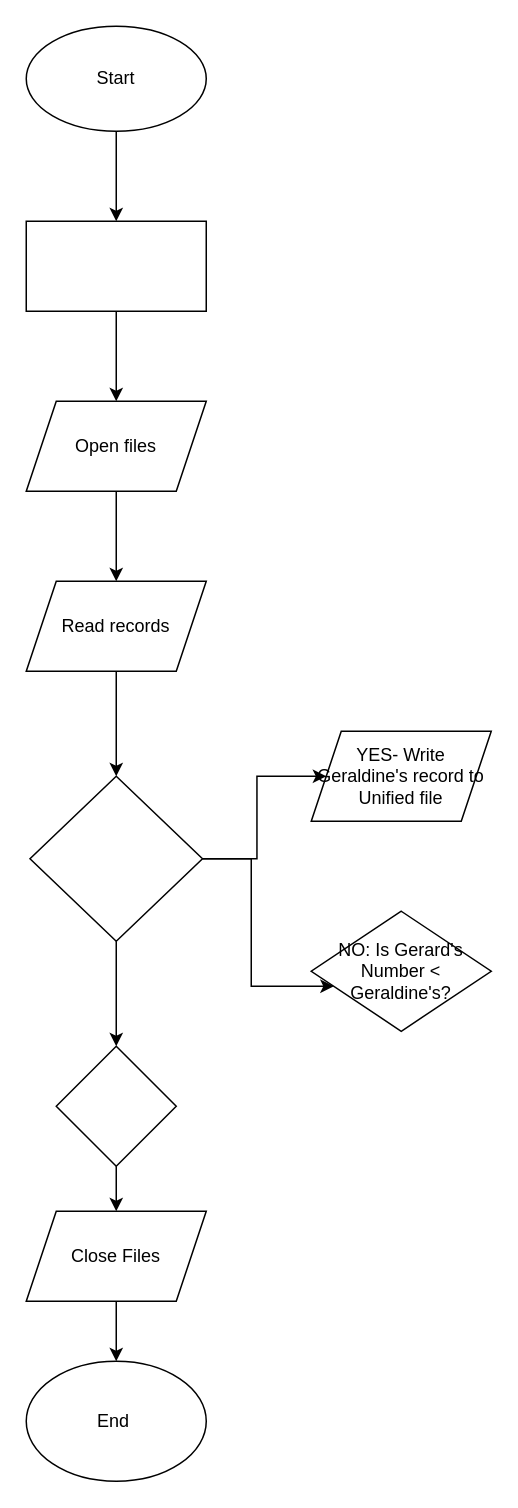
Image size: 518x1508. Some labels were removed from this diagram. The shapes that lost their labels are listed below. From the top down, each one's centre as x and y in pixels, then its label:
pixel 115 265: Declare files
pixel 115 858: Decision (compare customer numbers)
pixel 115 1105: Check Remaining Records
